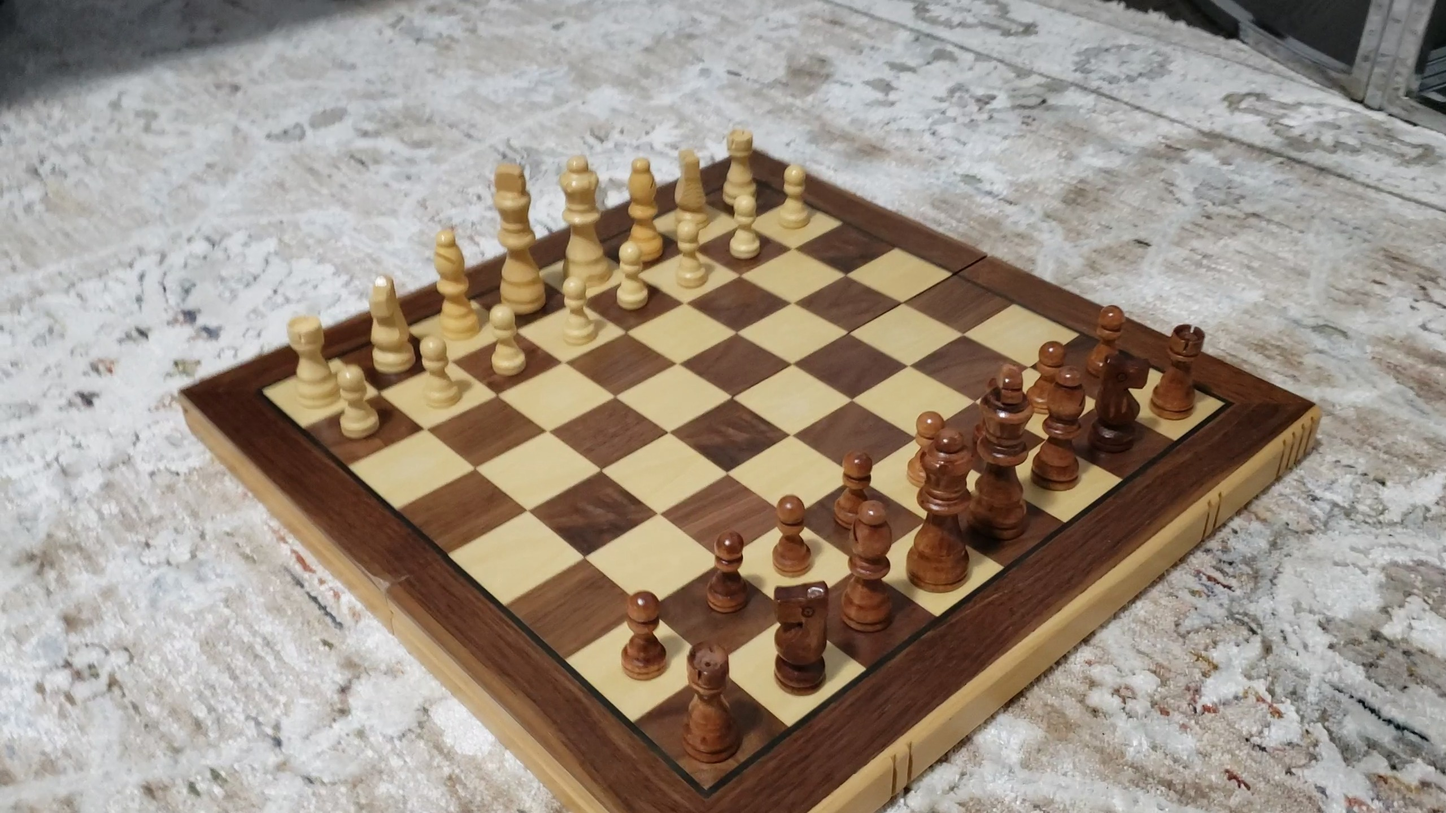black-bishop: (1032, 365, 1086, 490), (843, 498, 892, 632)
black-king: (969, 360, 1044, 541)
black-knight: (772, 580, 829, 694), (1088, 348, 1146, 455)
black-pawn: (606, 585, 674, 687), (694, 524, 760, 628), (763, 487, 816, 585), (826, 438, 877, 532), (1084, 292, 1132, 382), (903, 406, 948, 490), (1025, 332, 1069, 416)
black-queen: (906, 423, 980, 590)
black-rook: (680, 641, 736, 762), (1151, 323, 1206, 421)
white-bishop: (426, 221, 477, 345), (625, 154, 662, 267)
white-king: (481, 157, 552, 315)
white-knight: (360, 273, 414, 374), (668, 143, 718, 235)
white-pawn: (478, 298, 534, 390), (663, 208, 713, 304), (334, 362, 386, 447), (551, 266, 600, 356), (723, 181, 771, 271), (413, 333, 464, 416), (605, 238, 656, 319), (772, 155, 816, 238)
white-queen: (550, 149, 615, 290)
white-rook: (287, 313, 341, 408), (716, 126, 766, 206)
